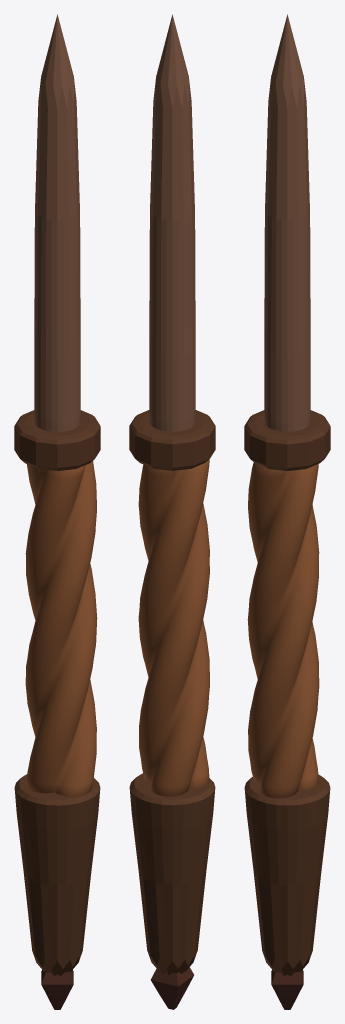
The model's file is Wand 805.glb.
3 views of the same model, side by side, from view 1: azimuth 90°, elevation 25°; view 2: azimuth 150°, elevation 25°; view 3: azimuth 270°, elevation 25° (orthographic).
Visible parts, largest first — view 1: GeneratedWand; view 2: GeneratedWand; view 3: GeneratedWand.
Boxes of the visible parts, bbox=[...] form: GeneratedWand: bbox=[14, 14, 100, 1009]; GeneratedWand: bbox=[129, 14, 215, 1009]; GeneratedWand: bbox=[244, 14, 330, 1009].
Size of the model in its own units: 0.0398 by 0.5042 by 0.0398.
